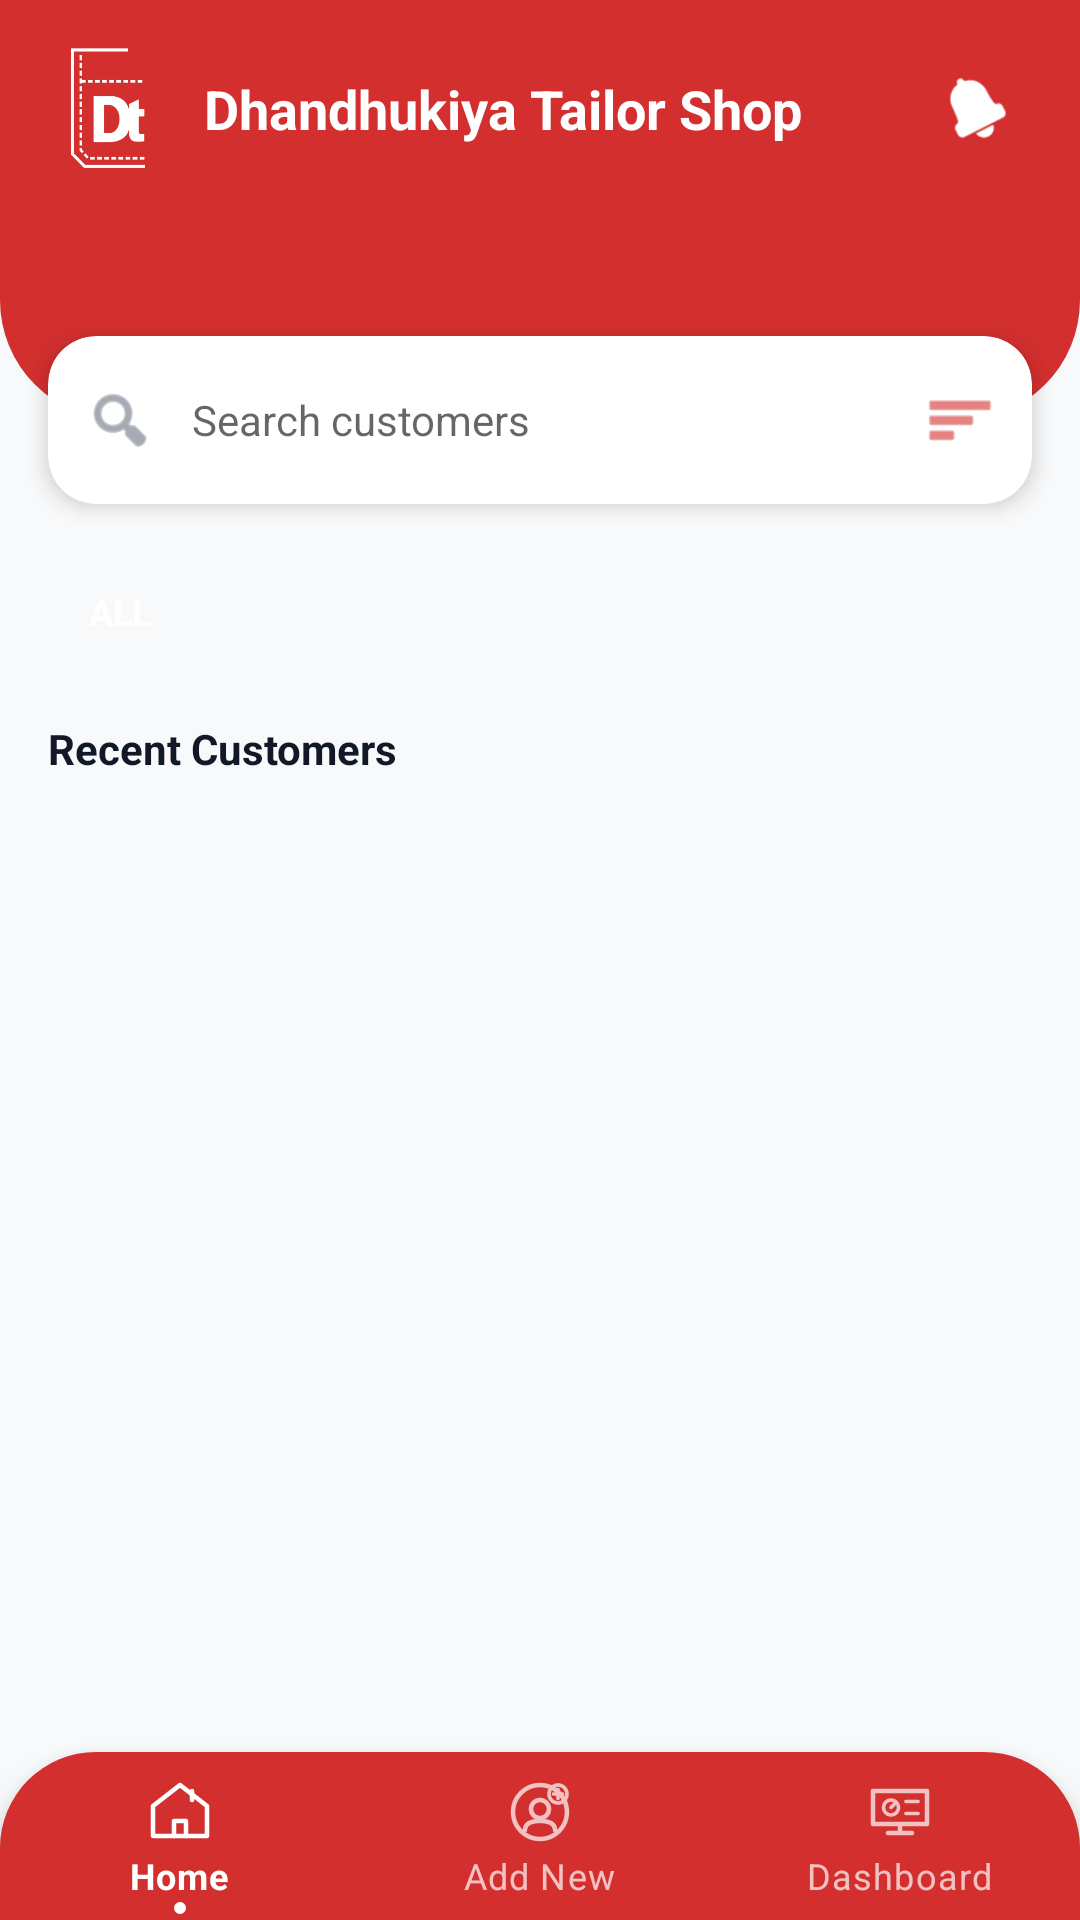

Icons on this 1080×1920 Android screen, each with its box as (x1, y1, x2, y2):
popup reminder: (950, 78, 1006, 138)
sort by size: (929, 400, 991, 441)
